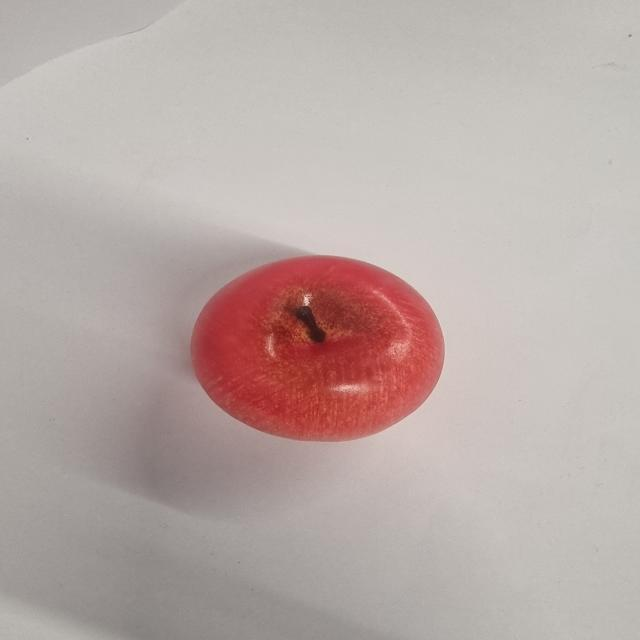apple: (189, 254, 446, 444)
